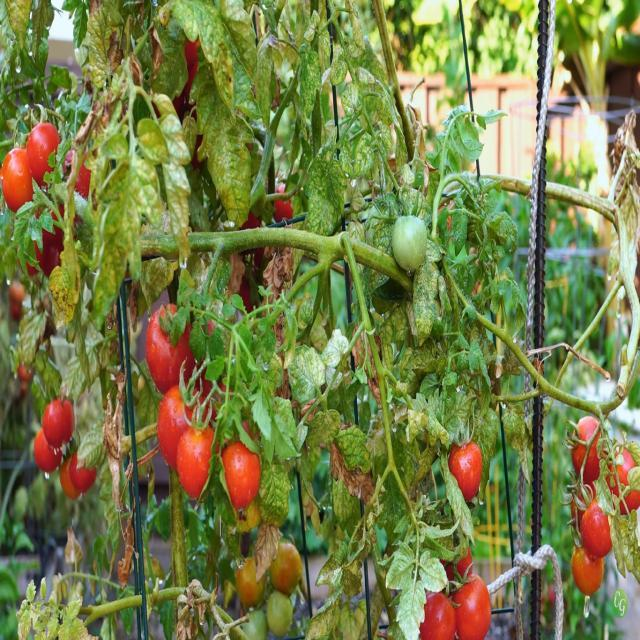Tomato spider mites leaf: (90, 115, 170, 331), (190, 62, 254, 228), (173, 0, 237, 125), (150, 93, 193, 267), (214, 0, 264, 120), (303, 552, 363, 640), (302, 125, 348, 236), (366, 191, 399, 304), (332, 424, 376, 506), (440, 449, 476, 548), (412, 238, 442, 348), (377, 78, 409, 172), (468, 407, 498, 505), (84, 0, 113, 91), (286, 343, 326, 406), (501, 403, 531, 487), (259, 454, 292, 529), (256, 34, 280, 136), (378, 302, 407, 373), (396, 578, 428, 640), (299, 42, 322, 120), (384, 539, 416, 591), (608, 493, 626, 580), (4, 0, 32, 52), (306, 408, 341, 449), (74, 431, 108, 472), (332, 473, 356, 530), (320, 324, 350, 368), (594, 457, 615, 519), (420, 550, 448, 594), (468, 338, 492, 389), (625, 506, 640, 584), (352, 131, 376, 178), (403, 336, 436, 370), (410, 444, 435, 488), (188, 318, 210, 366), (257, 314, 277, 366), (510, 280, 526, 342), (169, 305, 191, 348), (341, 78, 364, 118), (427, 518, 460, 540), (330, 46, 347, 87), (18, 607, 32, 640), (65, 596, 83, 620), (318, 31, 332, 58), (400, 163, 416, 186), (57, 619, 70, 640)
